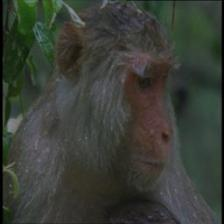monkey: (33, 0, 190, 200)
